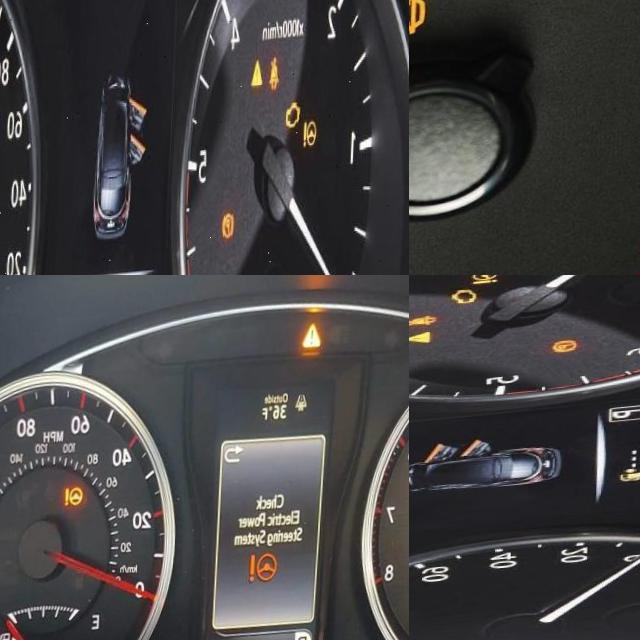Electronic Power Steering: (249, 556, 289, 592), (66, 486, 92, 513), (470, 275, 500, 290)
Electronic Power Steering Warning: (299, 128, 324, 163)
Seat Belt: (409, 312, 440, 334), (268, 65, 284, 102)
